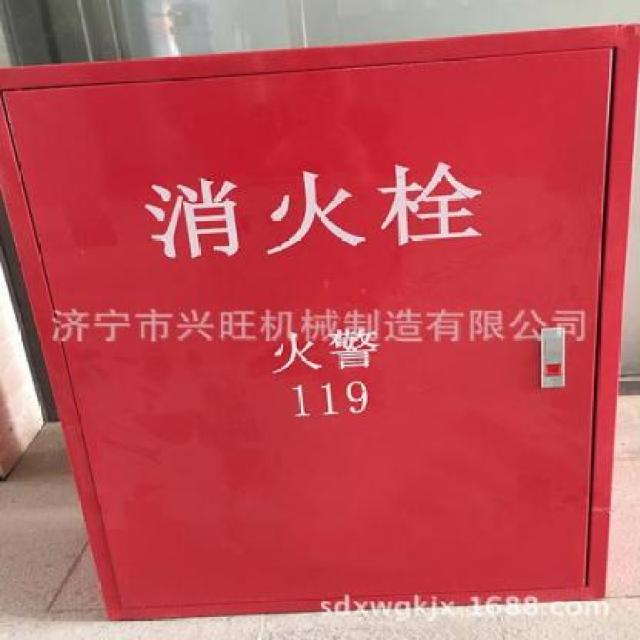firehydrant: (0, 19, 640, 626)
